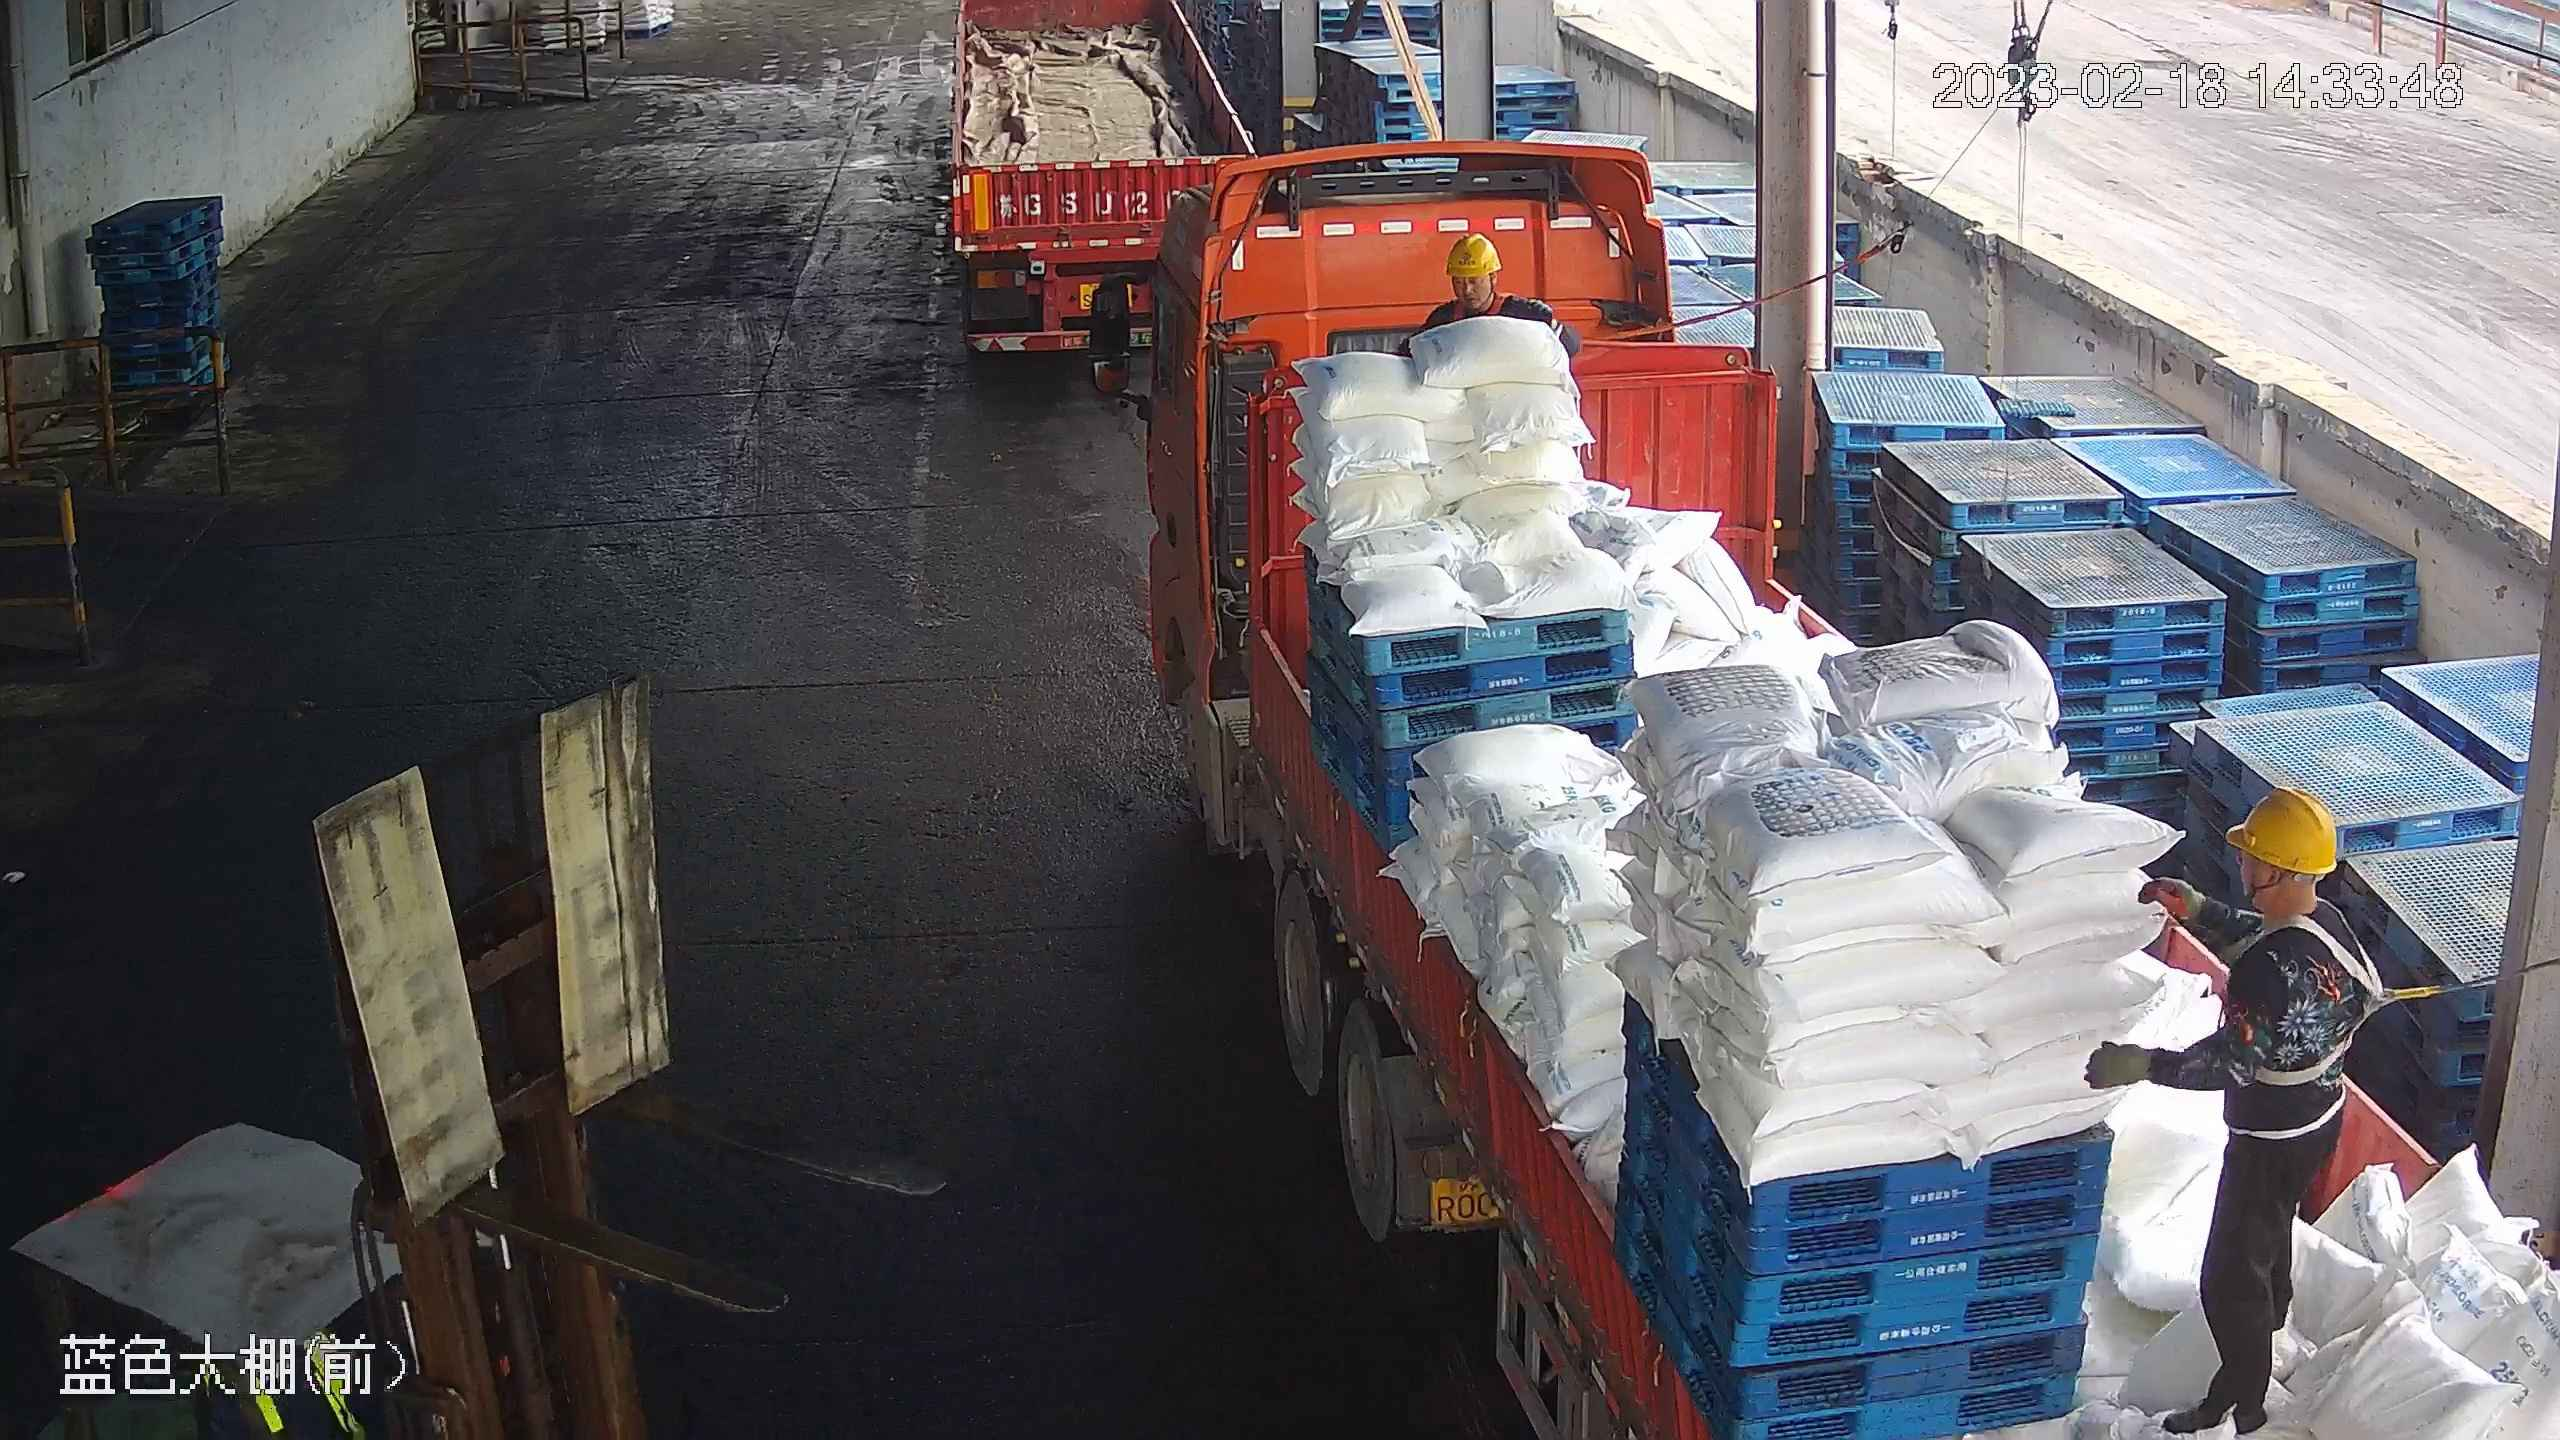belt: (2225, 901, 2427, 1154), (1440, 291, 1513, 320)
head: (2190, 784, 2376, 1023)
helmet: (2227, 791, 2342, 883), (1444, 232, 1501, 279)
people: (2081, 779, 2378, 1440)
truck: (1086, 133, 2560, 1440), (927, 1, 1262, 383)
